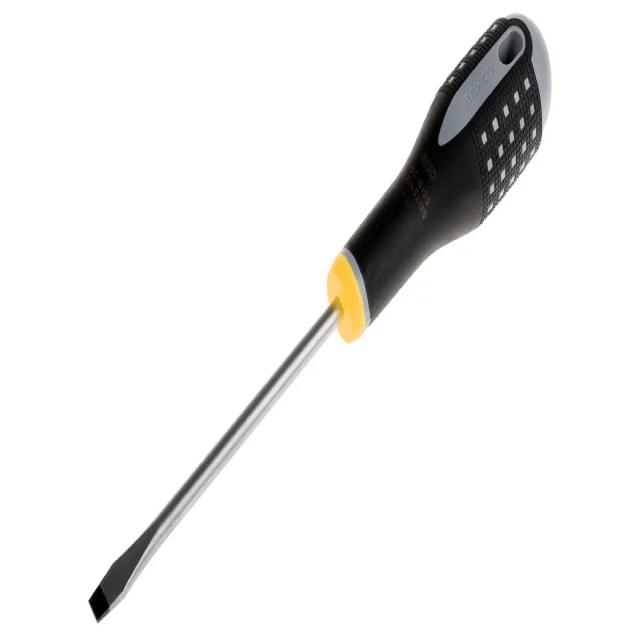Screwdriver: (89, 13, 553, 620)
